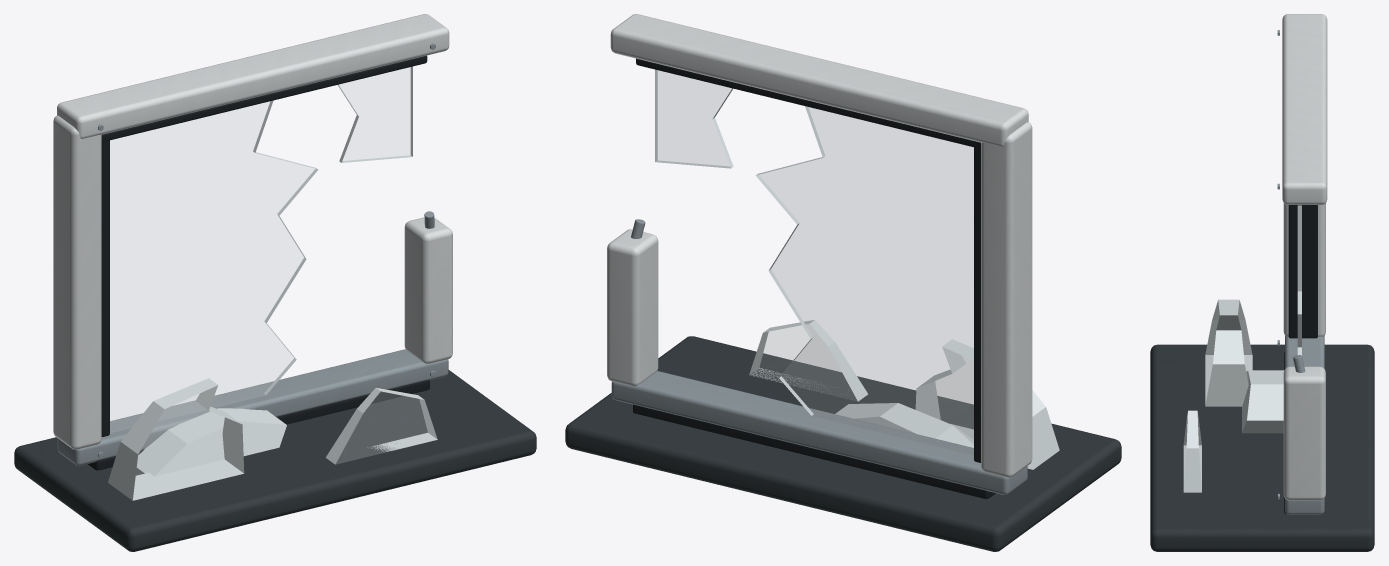
File: 20_fractured_cryo_breach.gltf
The picture shows the model from 3 angles, left to right: view 1: azimuth 30°, elevation 25°; view 2: azimuth 150°, elevation 25°; view 3: azimuth 270°, elevation 25°; orthographic projection. The views are drawn at different scales.
Visible parts, largest first — view 1: 20_Cryo_Clear_Inspection_Glass, 20_Cryo_Ceramic_Enamel, 20_Cryo_Anodized_Frame, 20_Cryo_Selective_Frost, 20_Cryo_Brushed_Steel, 20_Cryo_EPDM_Gasket; view 2: 20_Cryo_Clear_Inspection_Glass, 20_Cryo_Ceramic_Enamel, 20_Cryo_Anodized_Frame, 20_Cryo_Brushed_Steel, 20_Cryo_Selective_Frost, 20_Cryo_EPDM_Gasket; view 3: 20_Cryo_Anodized_Frame, 20_Cryo_Ceramic_Enamel, 20_Cryo_Selective_Frost, 20_Cryo_EPDM_Gasket, 20_Cryo_Brushed_Steel, 20_Cryo_Clear_Inspection_Glass.
Part boxes in pixels (x1,y1,x2,y2): 20_Cryo_Clear_Inspection_Glass: (110,67,437,500); 20_Cryo_Ceramic_Enamel: (53,14,452,449); 20_Cryo_Anodized_Frame: (14,370,536,551); 20_Cryo_Selective_Frost: (108,66,437,500); 20_Cryo_Brushed_Steel: (57,43,448,465); 20_Cryo_EPDM_Gasket: (88,55,429,470); 20_Cryo_Clear_Inspection_Glass: (655,70,1032,469); 20_Cryo_Ceramic_Enamel: (607,14,1032,477); 20_Cryo_Anodized_Frame: (565,336,1121,551); 20_Cryo_Brushed_Steel: (611,219,1027,494); 20_Cryo_Selective_Frost: (655,69,1059,469); 20_Cryo_EPDM_Gasket: (633,58,995,498); 20_Cryo_Anodized_Frame: (1150,344,1374,551); 20_Cryo_Ceramic_Enamel: (1282,14,1327,500); 20_Cryo_Selective_Frost: (1183,205,1301,492); 20_Cryo_EPDM_Gasket: (1284,205,1317,514); 20_Cryo_Brushed_Steel: (1277,30,1324,514); 20_Cryo_Clear_Inspection_Glass: (1184,301,1252,485).
Size of the model in its own units: 1.8 by 1.6 by 0.9.
Materials: 6 (4 with a texture image).
